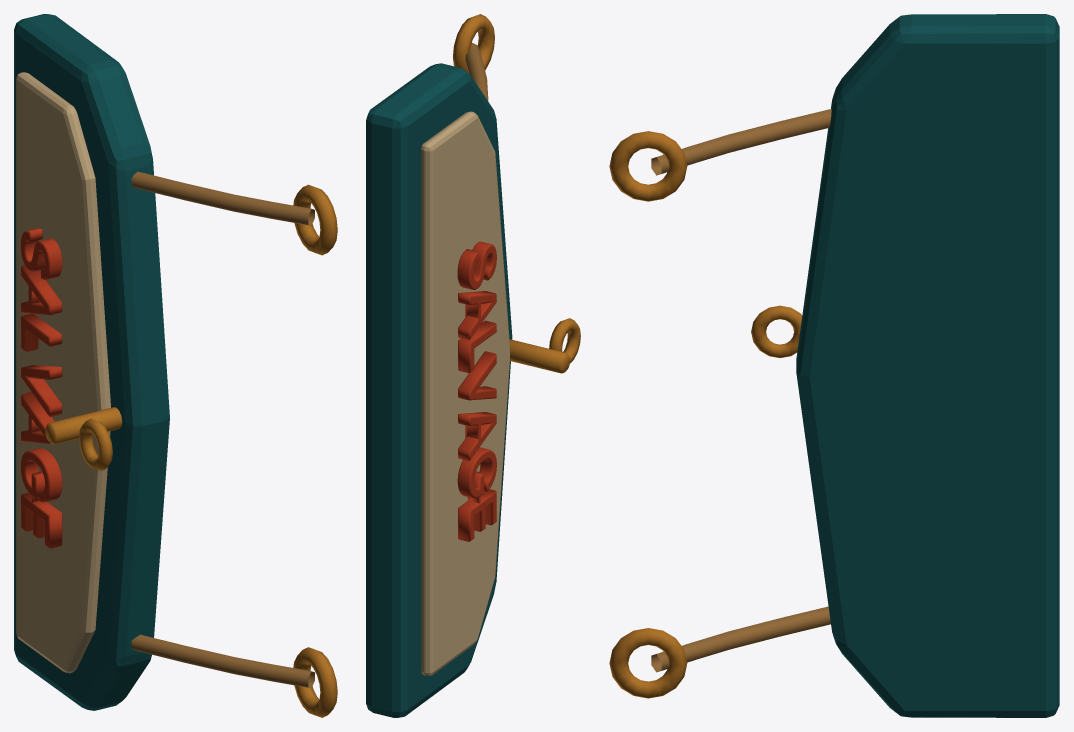
File: SM_LT_TraderHub_Sign.obj
The picture shows the model from 3 angles, left to right: view 1: azimuth 30°, elevation 25°; view 2: azimuth 150°, elevation 25°; view 3: azimuth 270°, elevation 25°; orthographic projection. The views are drawn at different scales.
Visible parts, largest first — view 1: SM_LT_TraderHub_Sign_EXPORT; view 2: SM_LT_TraderHub_Sign_EXPORT; view 3: SM_LT_TraderHub_Sign_EXPORT.
Part boxes in pixels (x1=…): SM_LT_TraderHub_Sign_EXPORT: x1=14, y1=14, x2=337, y2=717; SM_LT_TraderHub_Sign_EXPORT: x1=366, y1=14, x2=580, y2=717; SM_LT_TraderHub_Sign_EXPORT: x1=609, y1=14, x2=1059, y2=717.
Size of the model in its own units: 87.03 by 284 by 168.
